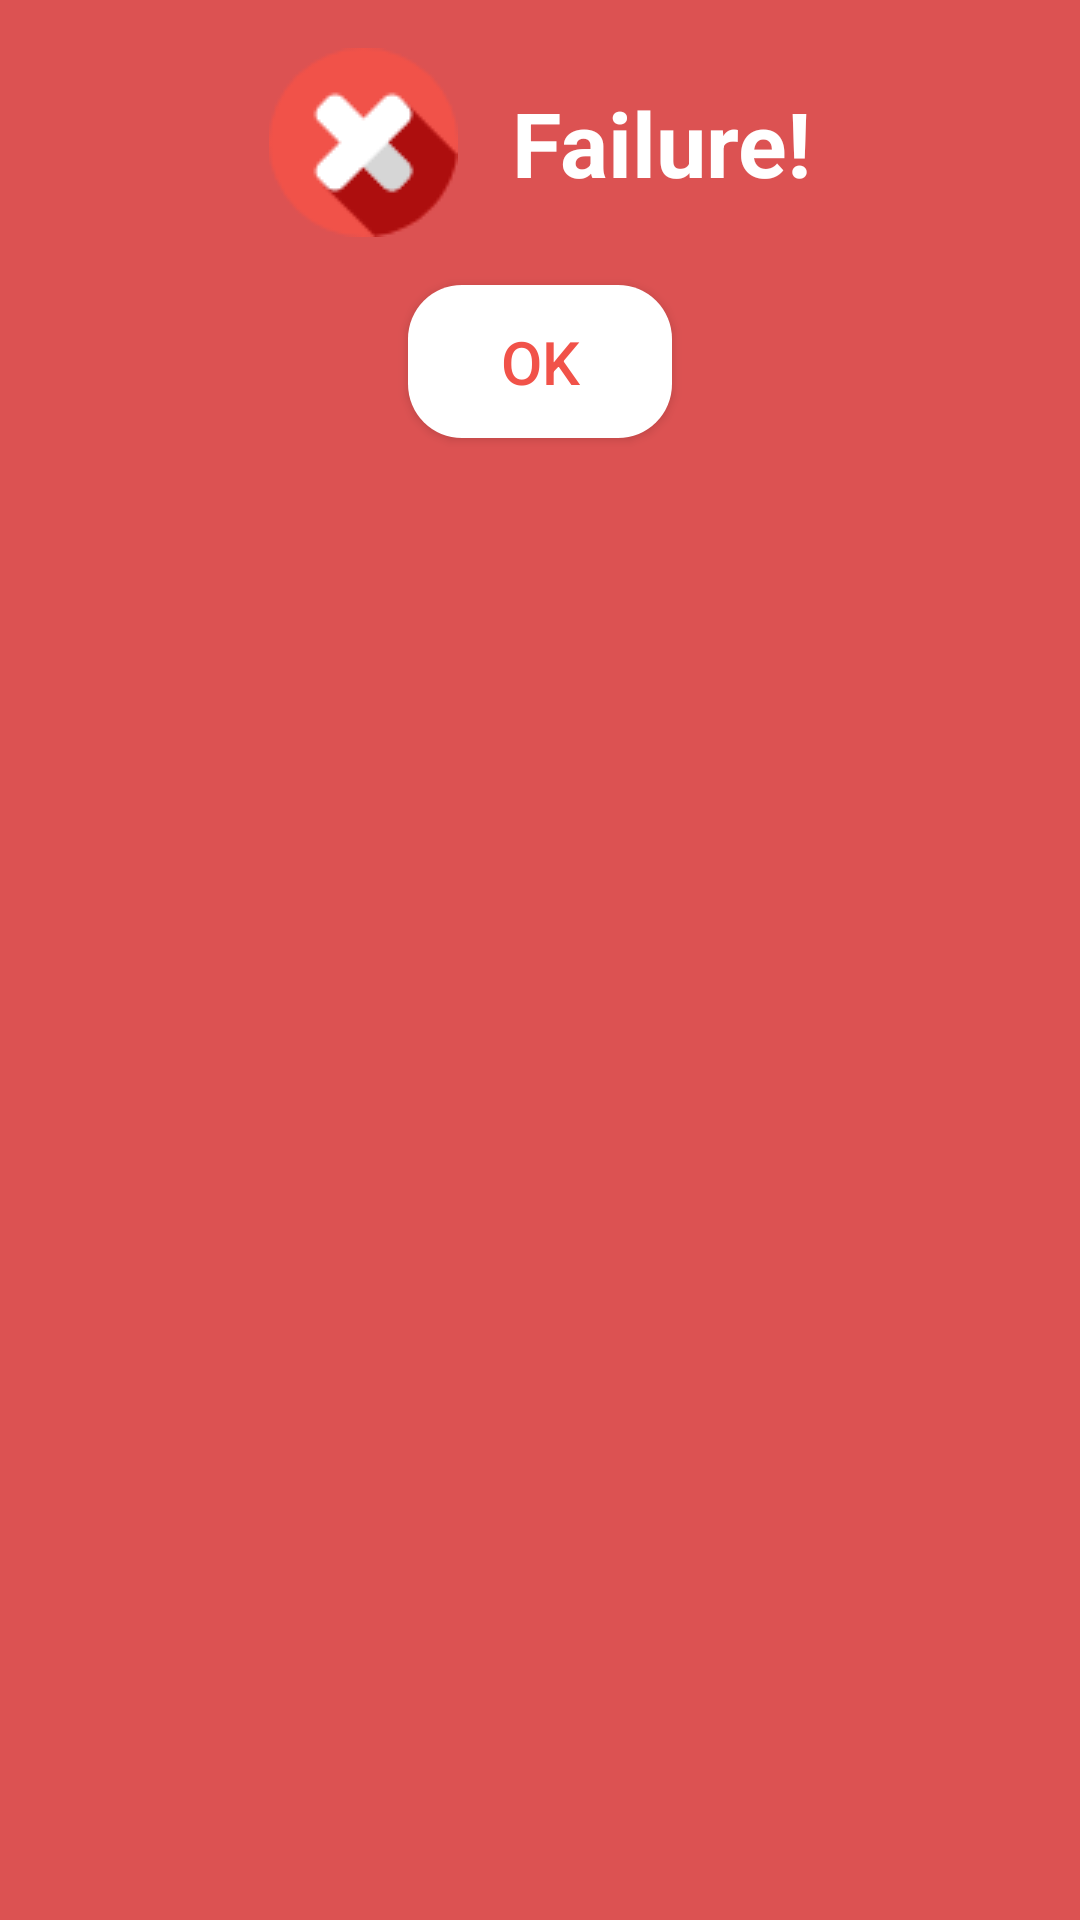

Point at icon controls on the screen. Image size 1080px x 1920px, points as [x,y].
fail dialog: [386,164]
